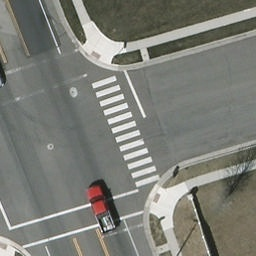car: (0, 52, 8, 91)
pickup: (83, 187, 117, 235)
